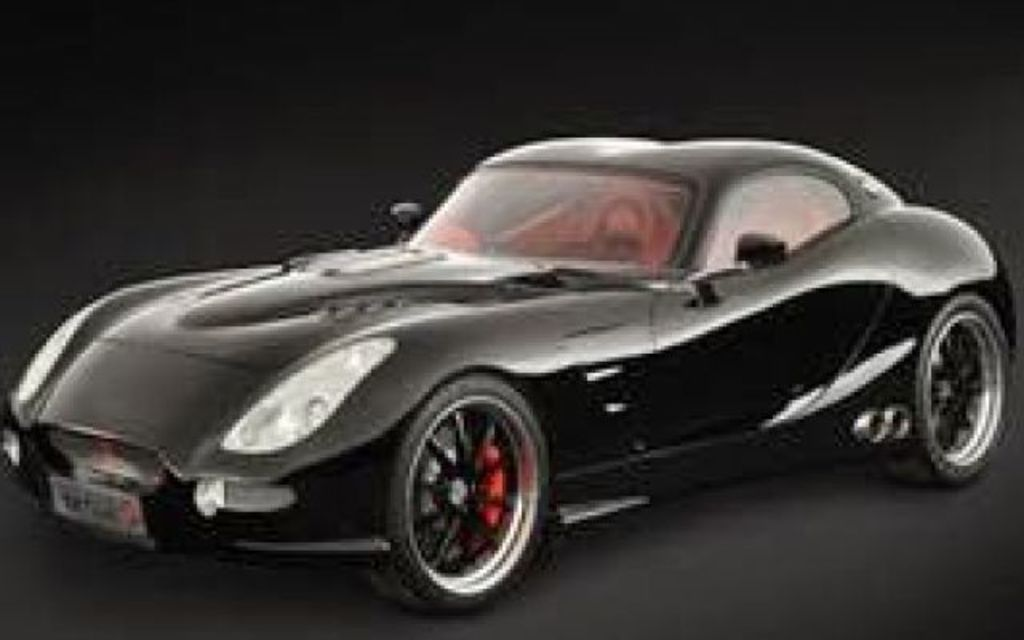cars: (0, 134, 1022, 621)
